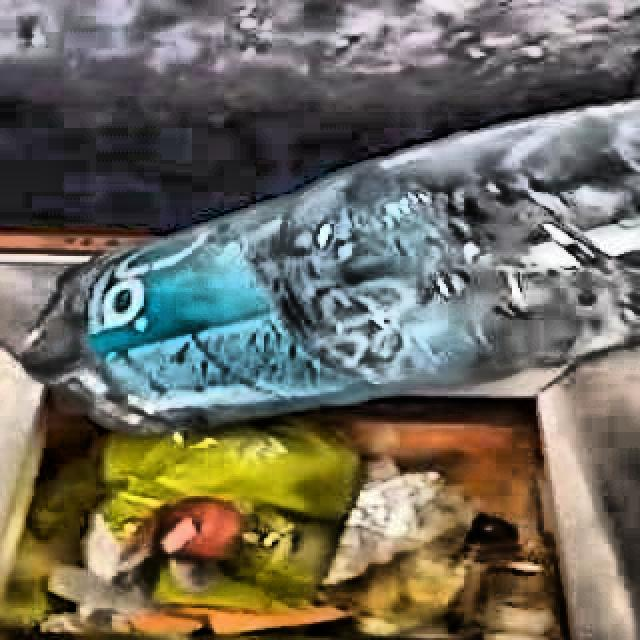plastic: (21, 100, 640, 435)
